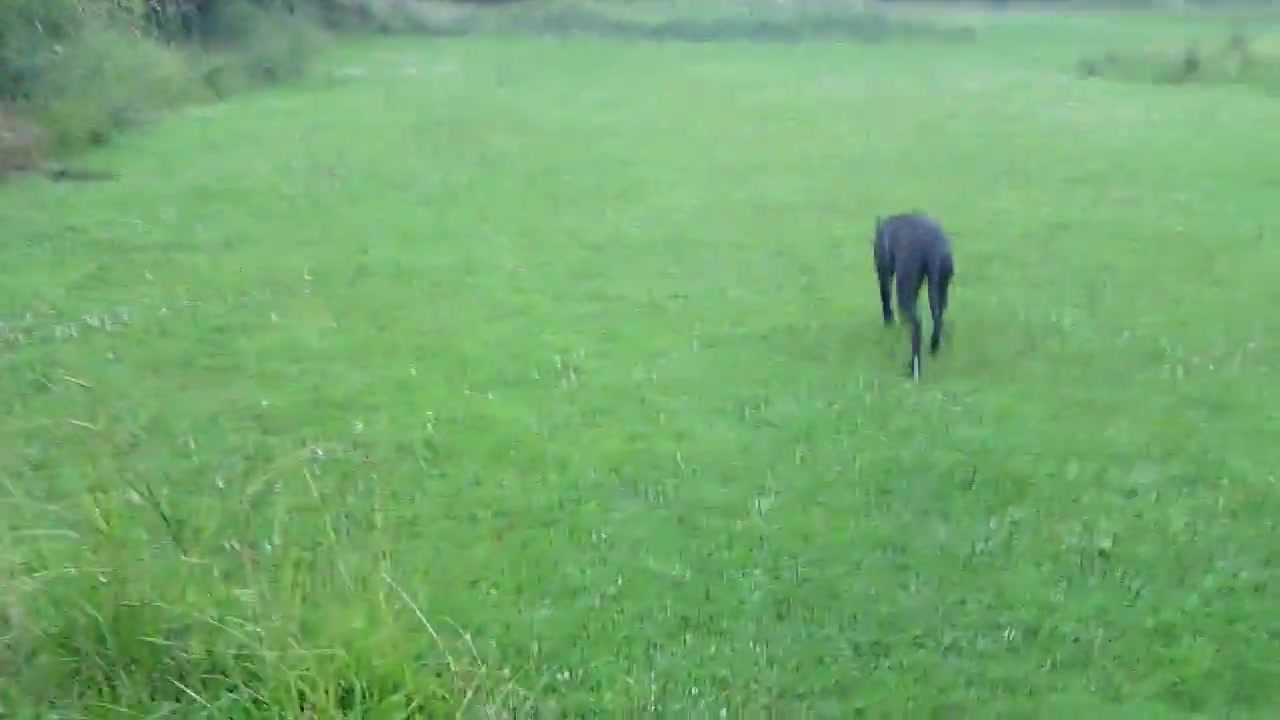dog: (872, 210, 957, 382)
